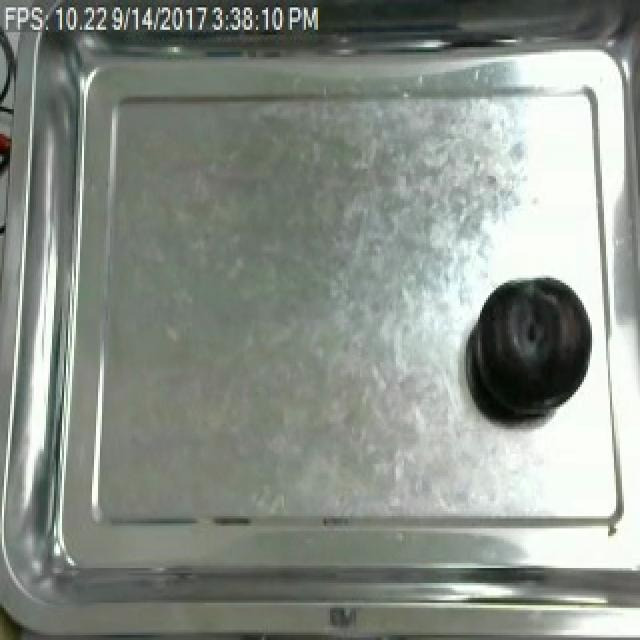Fruit: (464, 273, 598, 427)
